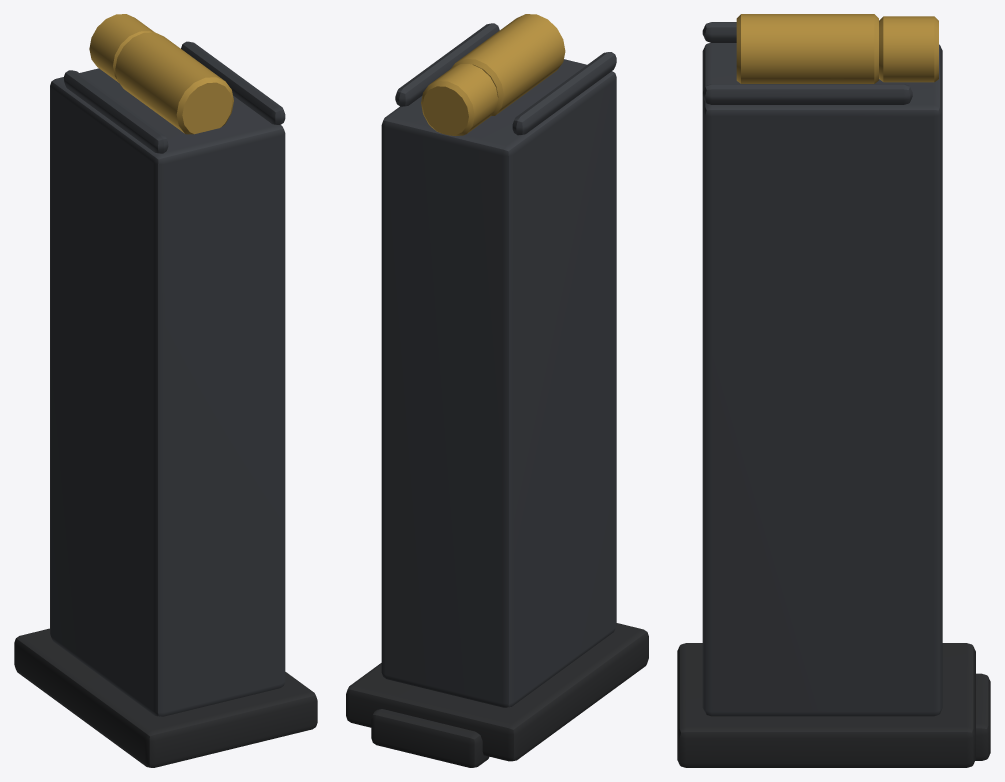
File: mod_p9_standard_mag.glb
The picture shows the model from 3 angles, left to right: view 1: azimuth 30°, elevation 25°; view 2: azimuth 150°, elevation 25°; view 3: azimuth 270°, elevation 25°; orthographic projection. The views are drawn at different scales.
Visible parts, largest first — view 1: Magazine, MagazineRound; view 2: Magazine, MagazineRound; view 3: Magazine, MagazineRound.
Boxes of the visible parts, box(x1,y1,x2,y2) form: Magazine: box(14, 41, 317, 767); MagazineRound: box(89, 14, 233, 134); Magazine: box(346, 23, 648, 767); MagazineRound: box(421, 14, 565, 136); Magazine: box(677, 22, 990, 767); MagazineRound: box(736, 14, 938, 83).
Size of the model in its own units: 0.0288 by 0.1058 by 0.0418.
